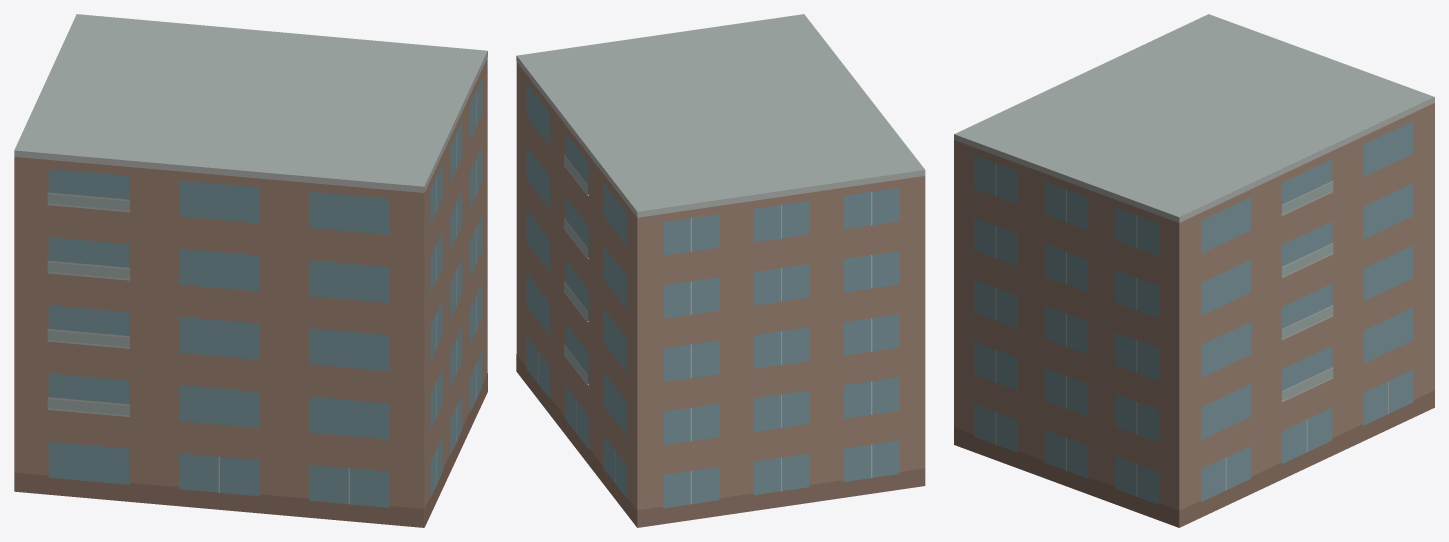
Rendered from survey-upis-32523629.glb.
The picture shows the model from 3 angles, left to right: view 1: azimuth 30°, elevation 25°; view 2: azimuth 150°, elevation 25°; view 3: azimuth 270°, elevation 25°; orthographic projection. The views are drawn at different scales.
Visible parts, largest first — view 1: survey-upis-32523629.tmp; view 2: survey-upis-32523629.tmp; view 3: survey-upis-32523629.tmp.
Boxes of the visible parts, bbox=[...] form: survey-upis-32523629.tmp: bbox=[14, 14, 487, 527]; survey-upis-32523629.tmp: bbox=[516, 14, 925, 527]; survey-upis-32523629.tmp: bbox=[954, 14, 1434, 527].
Size of the model in its own units: 18.39 by 13.1 by 18.38.
